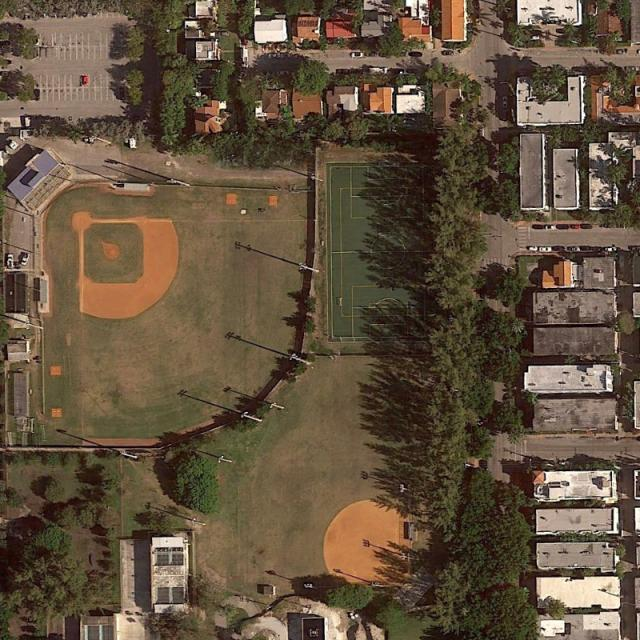vehicle: (80, 74, 90, 87), (6, 254, 14, 269), (22, 253, 30, 265), (351, 51, 364, 58), (408, 51, 423, 57), (34, 89, 41, 101), (529, 34, 543, 40), (557, 224, 570, 230), (581, 224, 594, 230), (502, 96, 508, 109), (613, 49, 626, 55), (538, 247, 553, 252), (532, 224, 544, 230), (605, 246, 617, 252), (441, 50, 454, 55), (553, 246, 565, 251), (568, 246, 580, 251), (579, 246, 591, 251), (591, 246, 603, 251), (366, 51, 378, 56), (545, 225, 556, 230), (559, 460, 569, 465), (570, 224, 579, 229), (530, 246, 538, 250)
